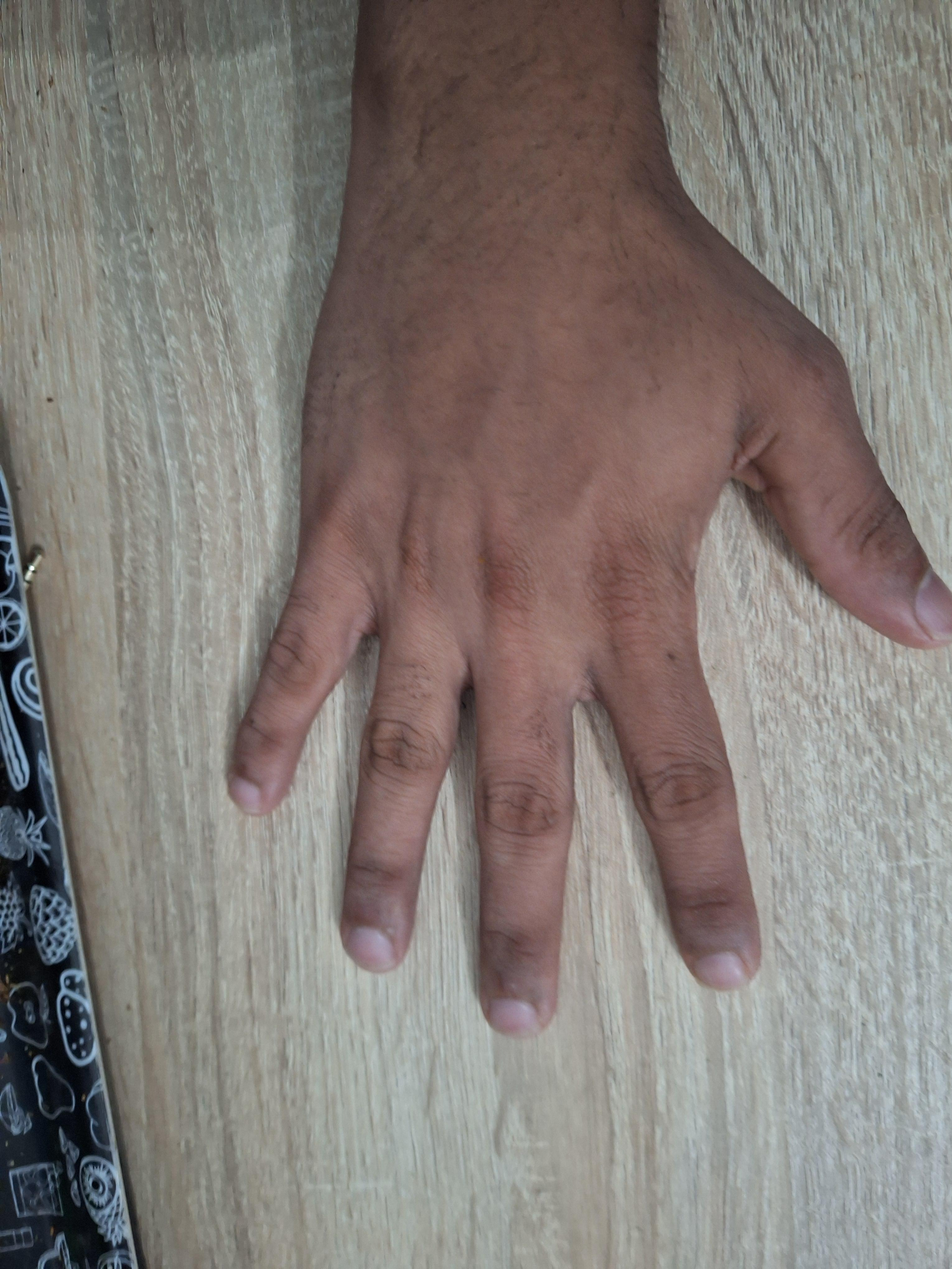Fingernail: (347, 928, 399, 973), (696, 953, 750, 991), (489, 999, 542, 1035), (229, 777, 262, 814)
